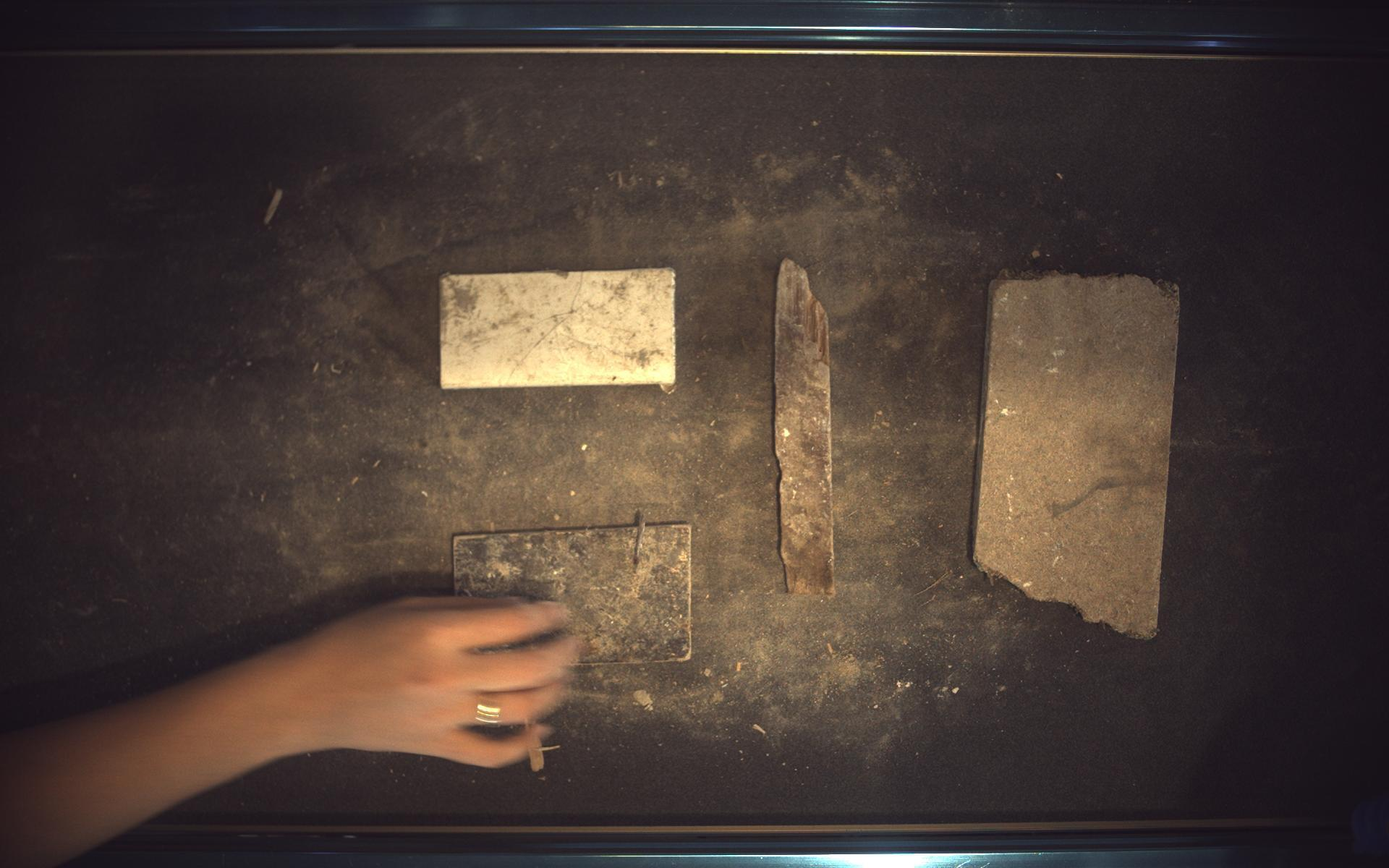wood: (976, 274, 1181, 639), (454, 519, 693, 666), (440, 268, 676, 388), (776, 258, 837, 596)
